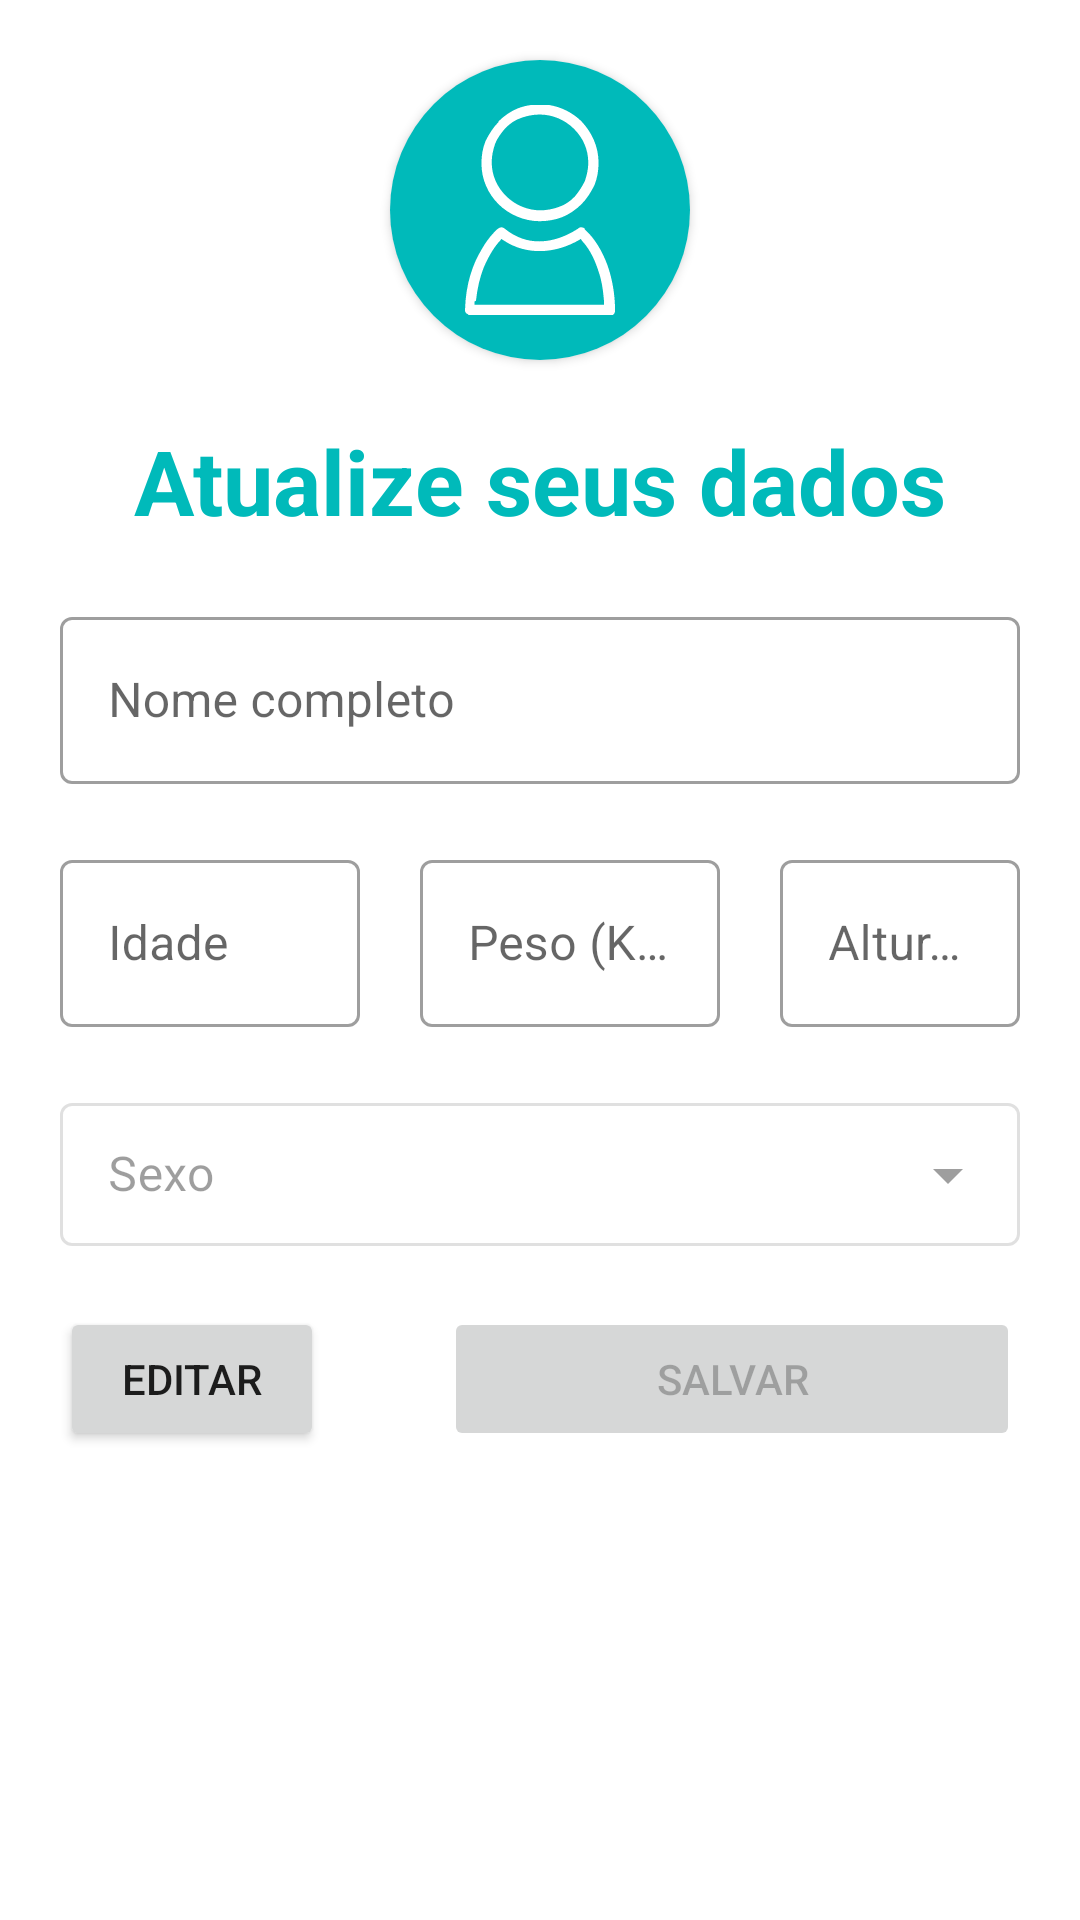

Icons on this 1080*1920 Android screen, each with the point to tap as (x=x, y=y):
profile: (x=540, y=210)
